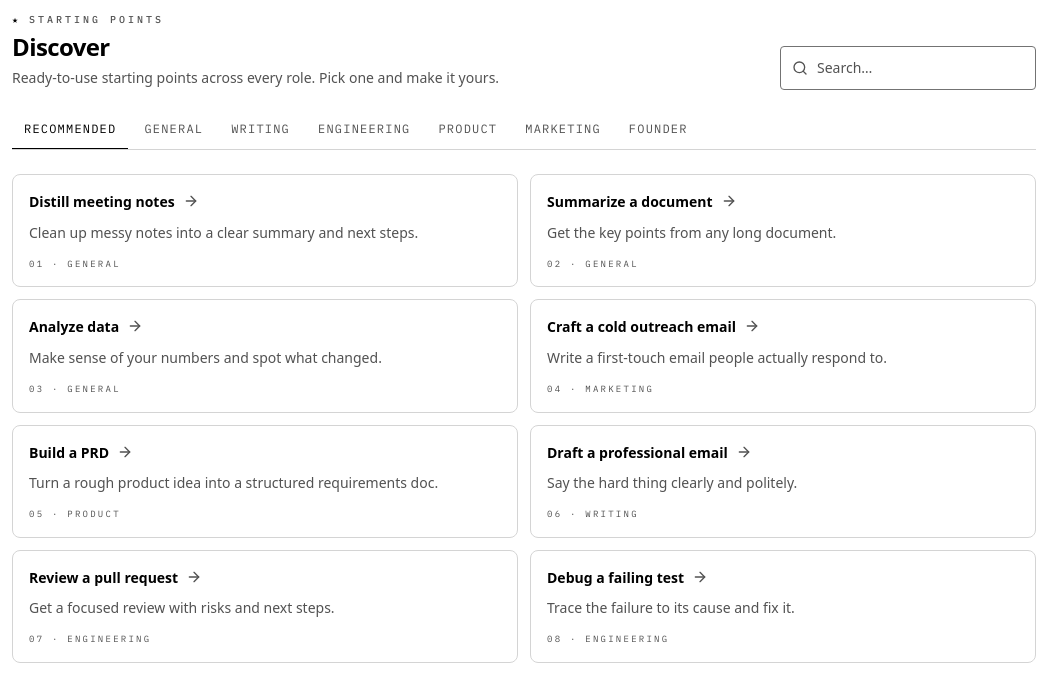
DiscoverGrid › filters by search text and shows an empty state when nothing matches
Type "investor" into the search field named "Search starting points". click: {"x": 908, "y": 68}
box: [780,46,1036,90]
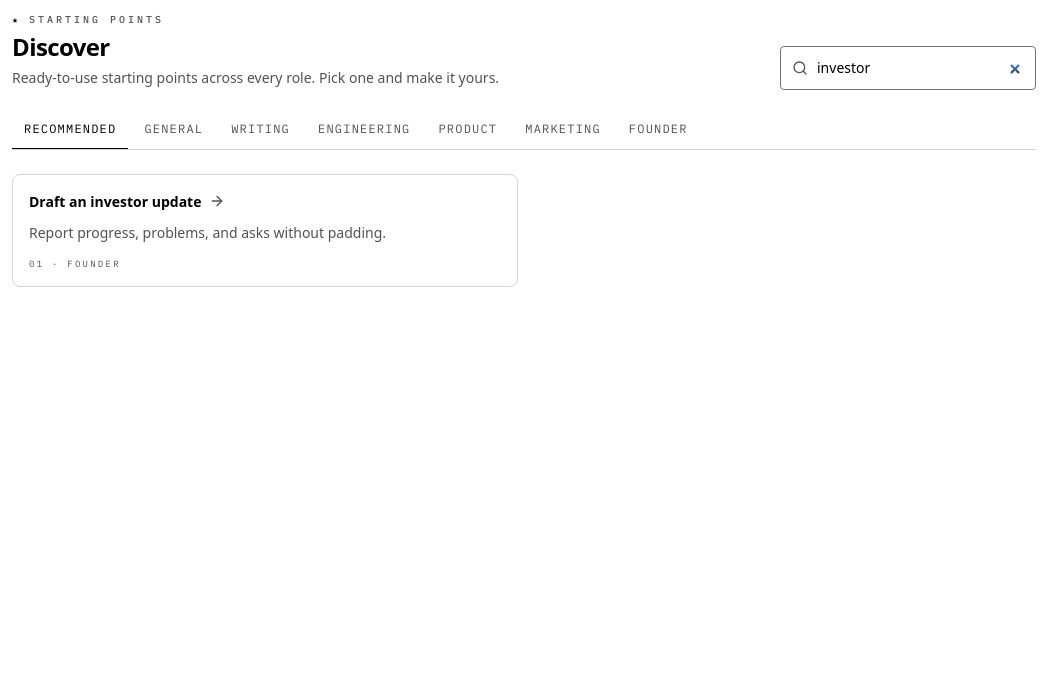
Expected: the number of buttons is 1, [12,174,518,287]
Type "-zzz" into the search field named "Search starting points". click: {"x": 908, "y": 68}
box: [780,46,1036,90]
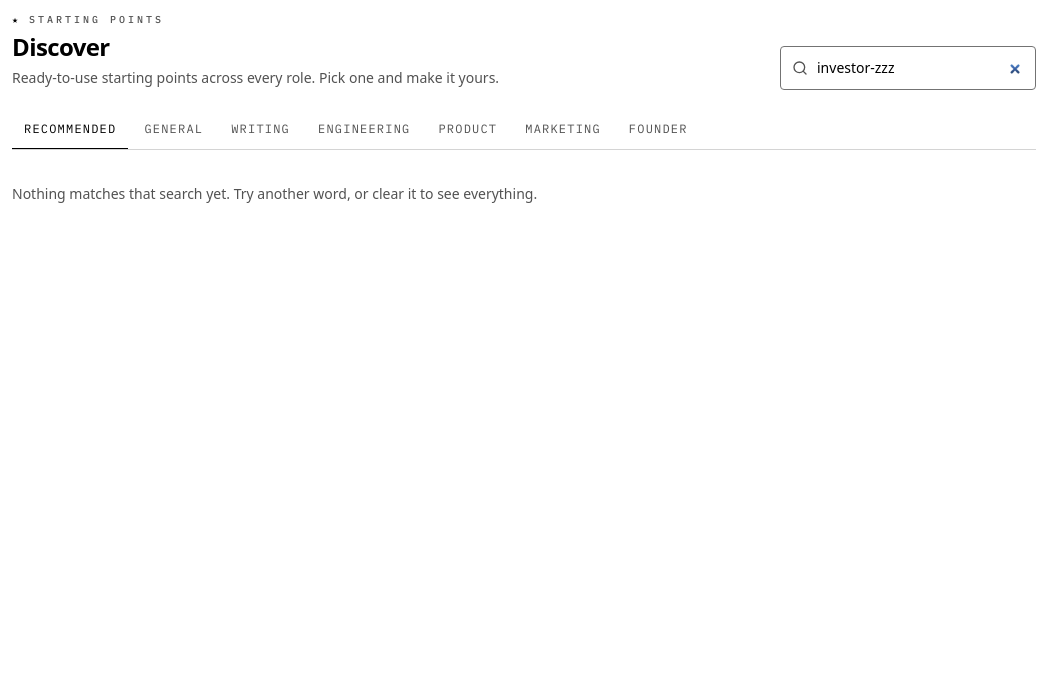
Expected: no buttons are shown
Expected: the message shows "Nothing matches that search yet", [12,184,537,203]
